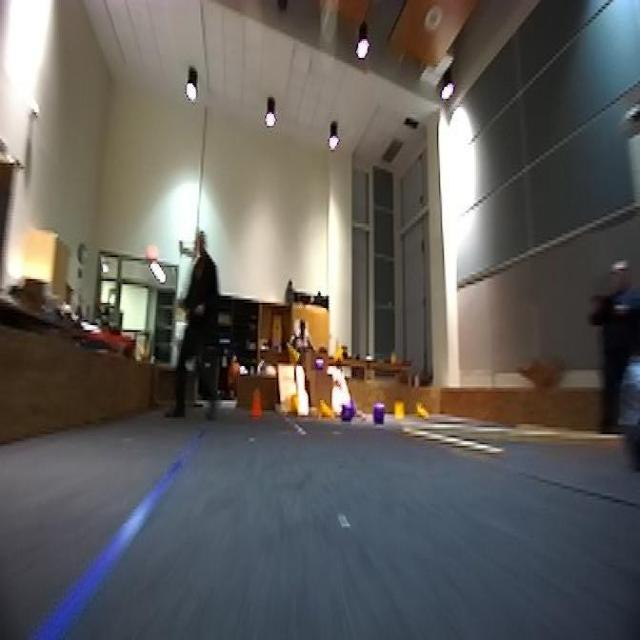frc_cone: (316, 400, 334, 426), (414, 404, 432, 426), (392, 400, 405, 427), (289, 344, 304, 366), (332, 339, 345, 364), (289, 392, 301, 416)
frc_cube: (372, 400, 388, 427), (312, 352, 327, 373), (340, 402, 352, 424)
